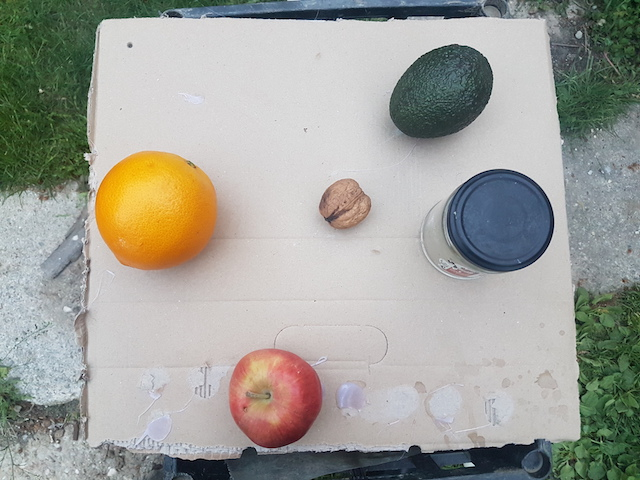apple: (222, 345, 322, 449)
avocado: (386, 41, 495, 141)
nut: (316, 178, 373, 231)
orange: (90, 146, 220, 274)
recipient: (447, 165, 558, 274)
